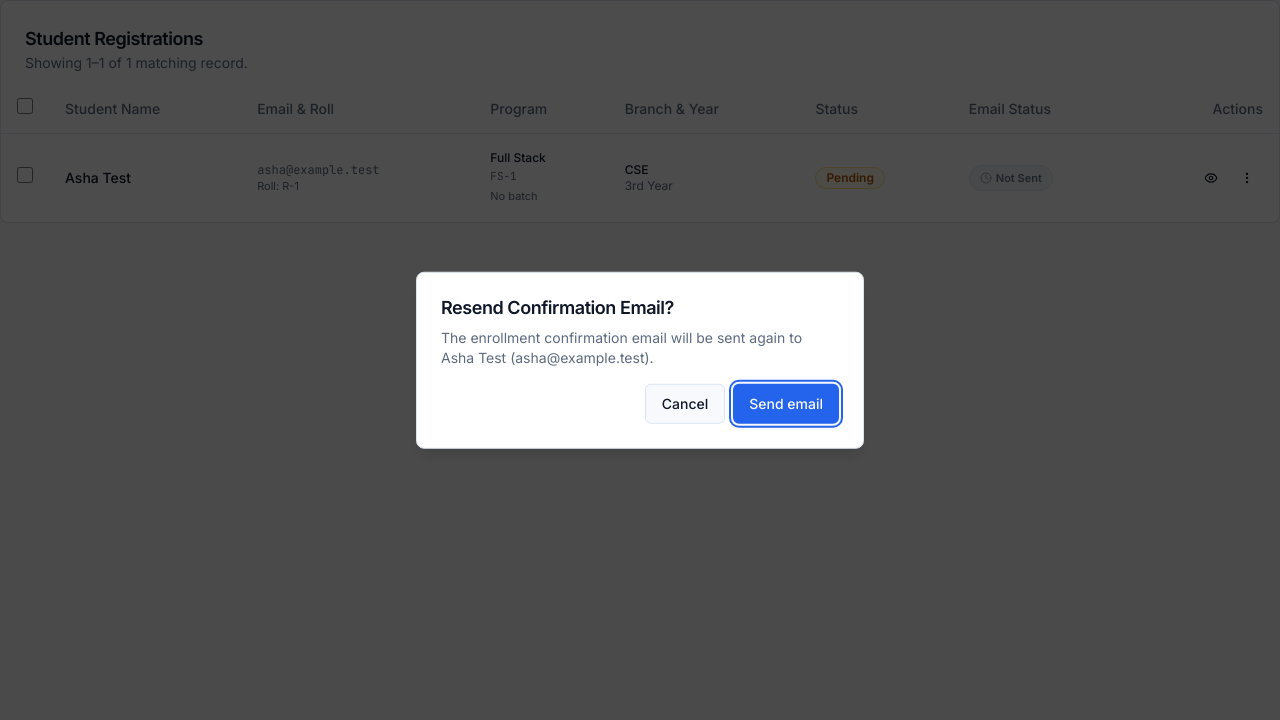
Test case: Enrollments: single Resend Email asks first › Send email calls the existing action once with the enrollment id, then closes
The image size is (1280, 720).
Earlier steps of the test are not shown.
Later steps or results of the test are not shown.
Click the button "Send email": point(786, 403) [733,383,839,423]
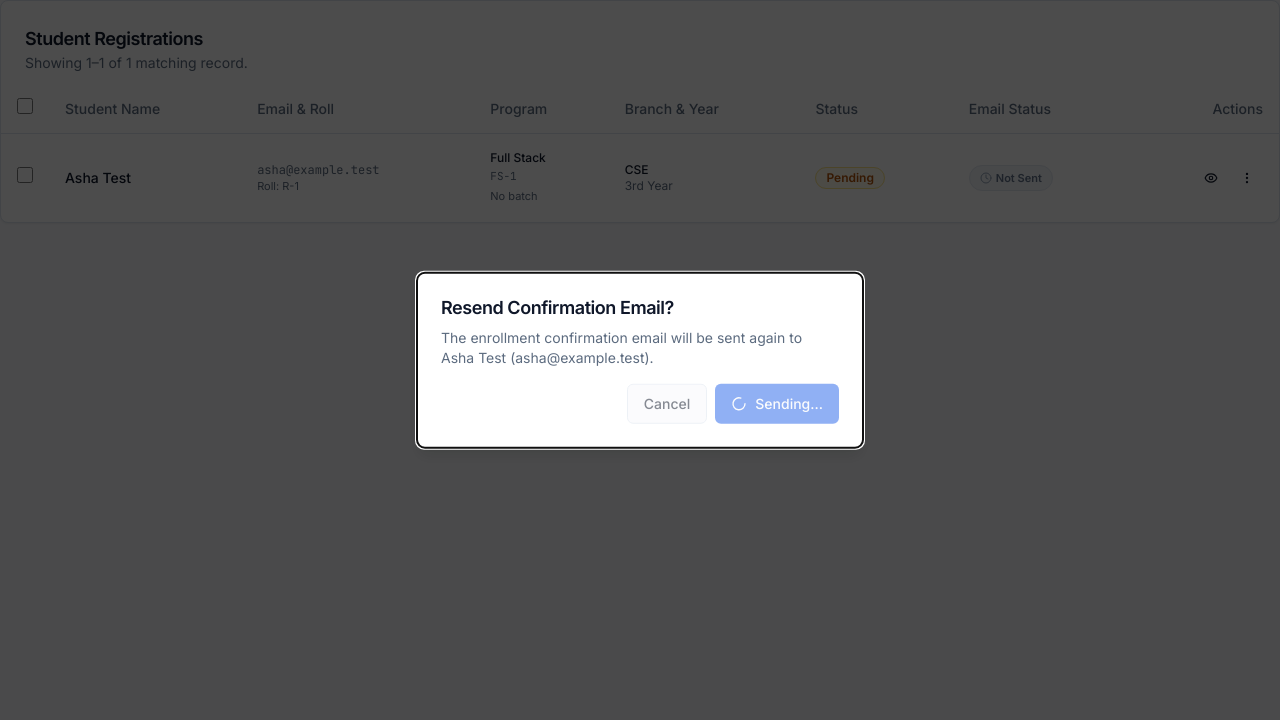
Click the button named "Send email": point(777, 403) [715,383,839,423]
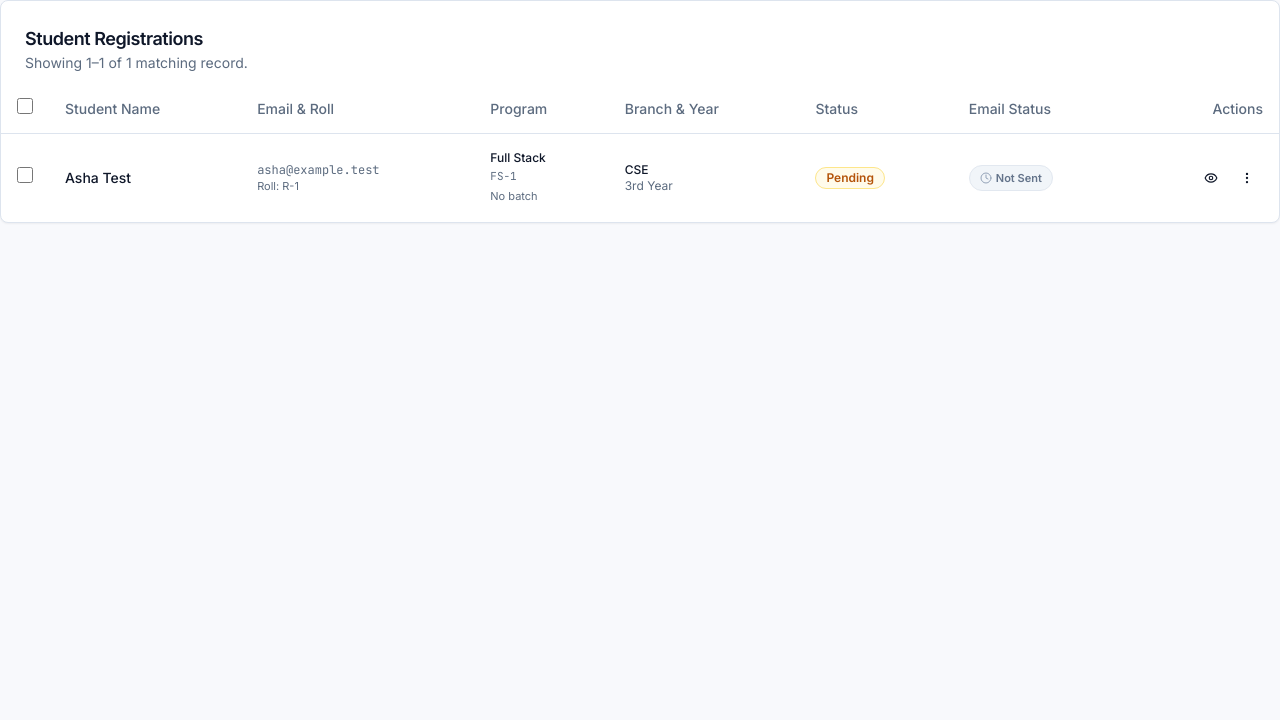
Check: the dialog is gone
